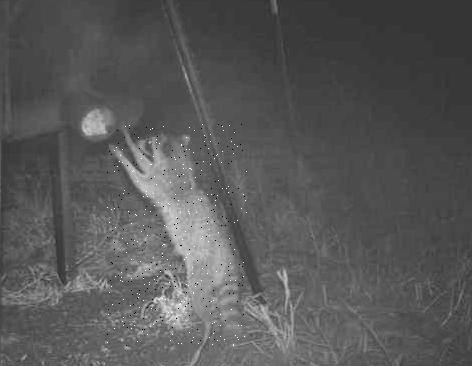Raccoon: (107, 123, 247, 346)
